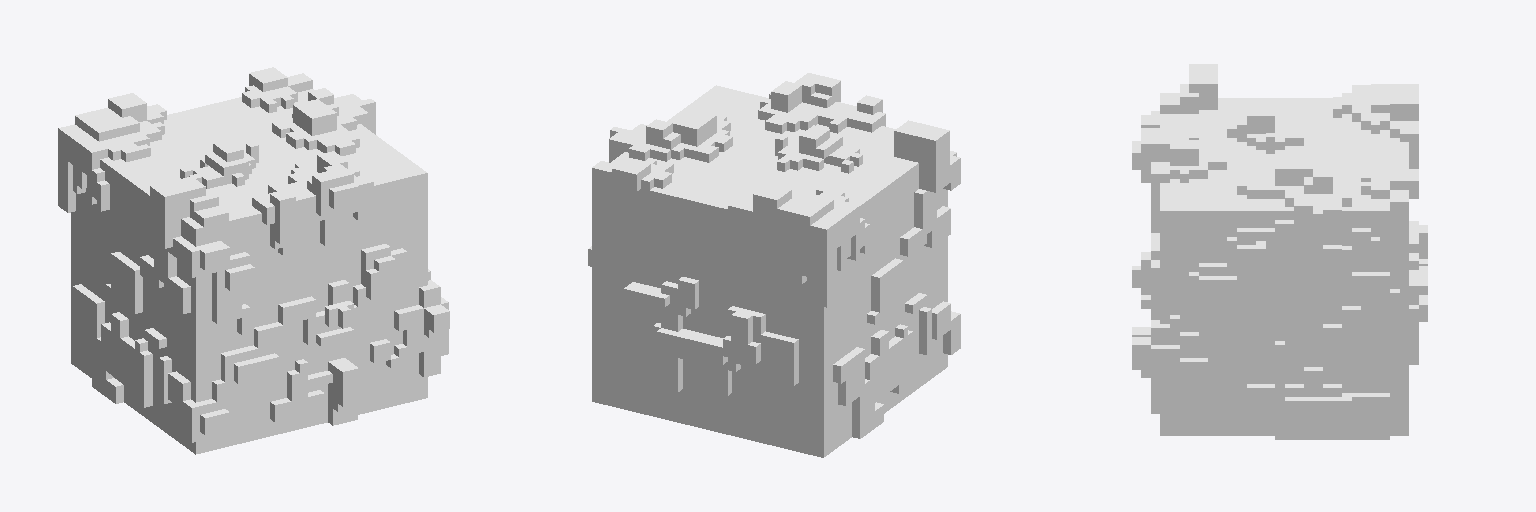
File: Wold.obj
3 renders of one model, left to right at view 1: azimuth 30°, elevation 25°; view 2: azimuth 150°, elevation 25°; view 3: azimuth 270°, elevation 25°, orthographic.
Parts seen in each view (by area): view 1: object 1; view 2: object 1; view 3: object 1.
Part boxes in pixels (bbox=[...]): object 1: bbox=[58, 67, 449, 454]; object 1: bbox=[588, 73, 960, 457]; object 1: bbox=[1132, 64, 1427, 439].
Bounding box in the file's own units: 3.3 × 2.9 × 3.1.